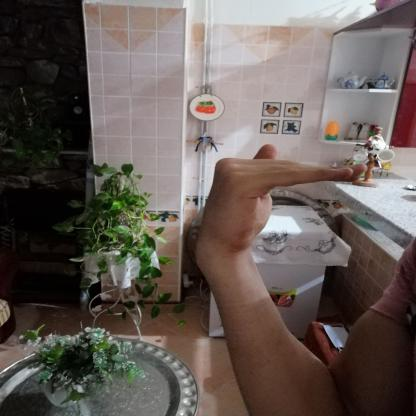KHAA: (172, 136, 376, 276)
